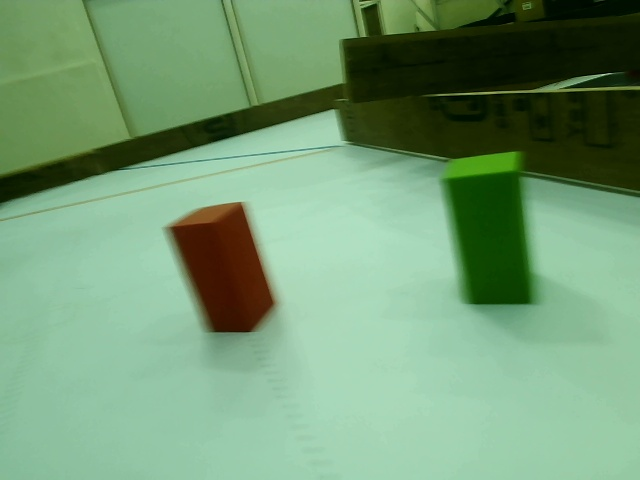red: (171, 212, 275, 332)
